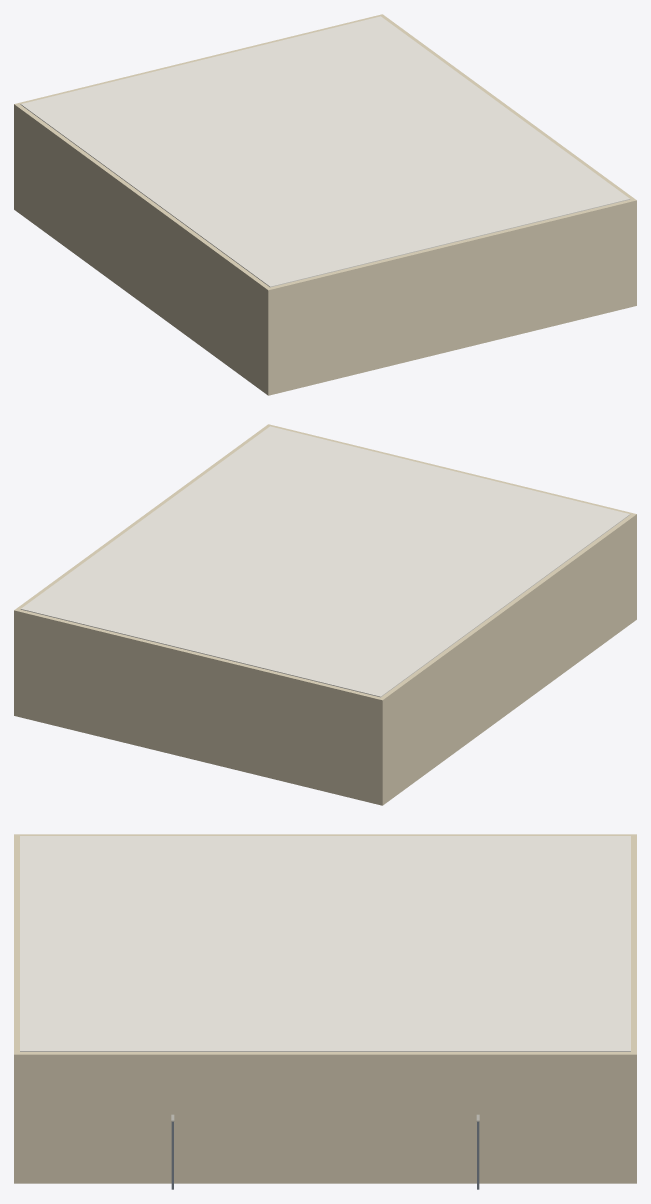
File: office.glb
3 views of the same model, one above another, from view 1: azimuth 30°, elevation 25°; view 2: azimuth 150°, elevation 25°; view 3: azimuth 270°, elevation 25° (orthographic). The views are drawn at different scales.
Visible parts, largest first — view 1: Office_Room; view 2: Office_Room; view 3: Office_Room.
Part boxes in pixels (x1=…): Office_Room: x1=14, y1=14, x2=636, y2=395; Office_Room: x1=14, y1=424, x2=636, y2=805; Office_Room: x1=14, y1=834, x2=636, y2=1189.
Size of the model in its own units: 10.52 by 2.84 by 12.24.
